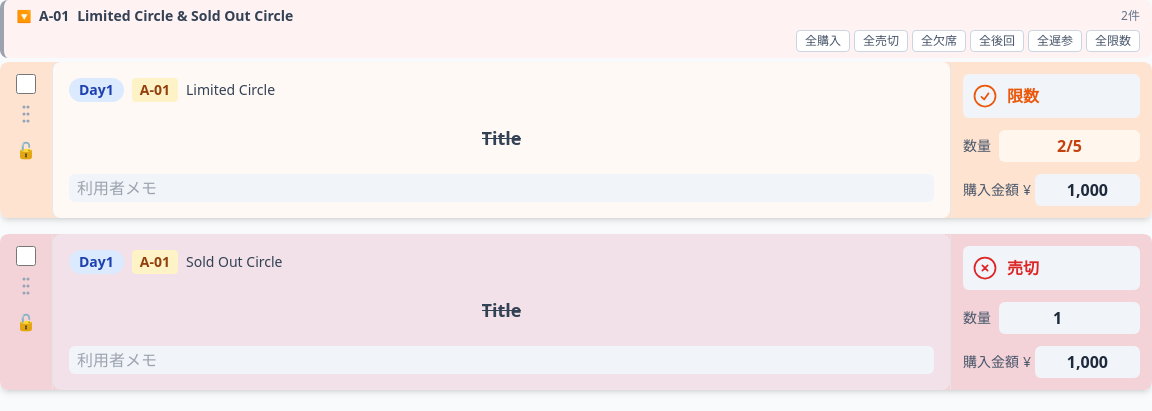
ShoppingList purchase status control mode › does not toggle already matching non-limited items when limited items are excluded from a bulk change
Click the button "全売切": (881, 41) [854,30,908,52]
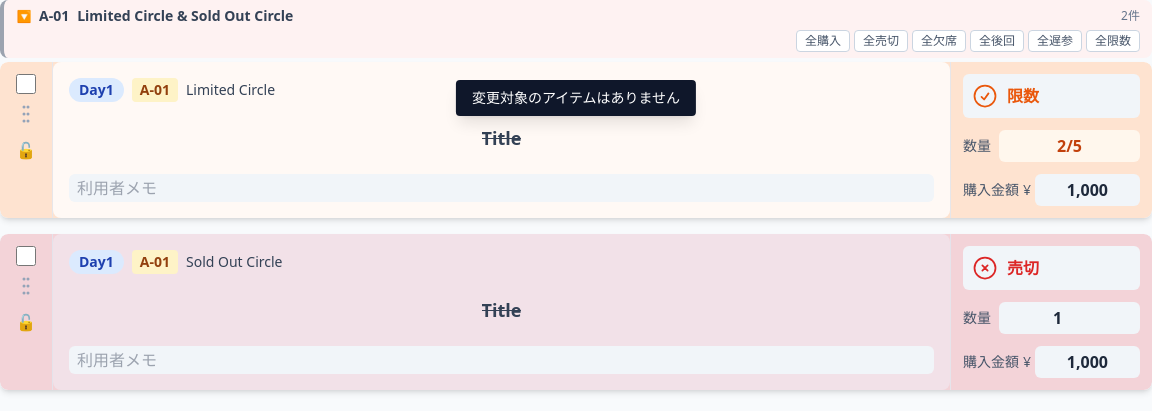
Result: the text "変更対象のアイテムはありません" is shown at [456,80,696,116]
